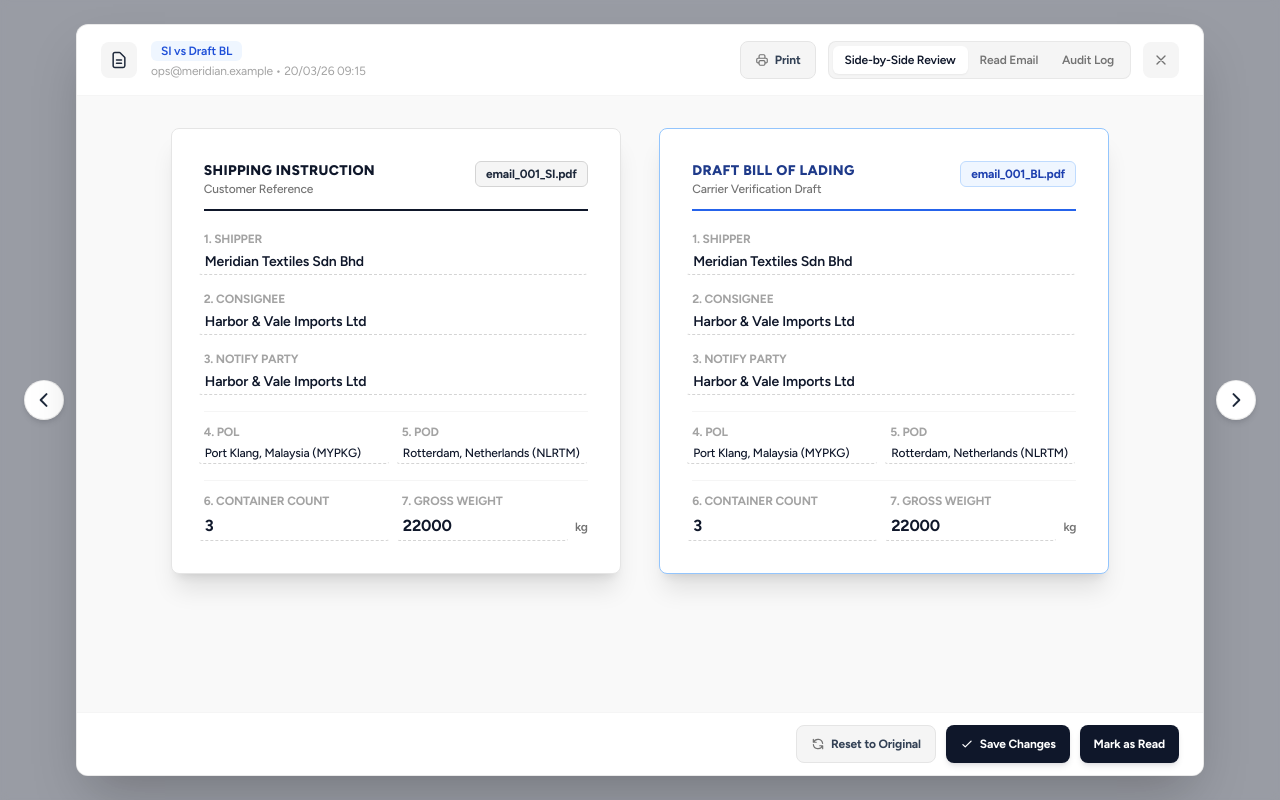
ReviewModal email pane › opens the side-by-side review from the email
What coordinates should you click on to do the following:
click the button "Read Email"
I would click on:
 (1009, 60)
Its box is x1=968 y1=46 x2=1050 y2=74.
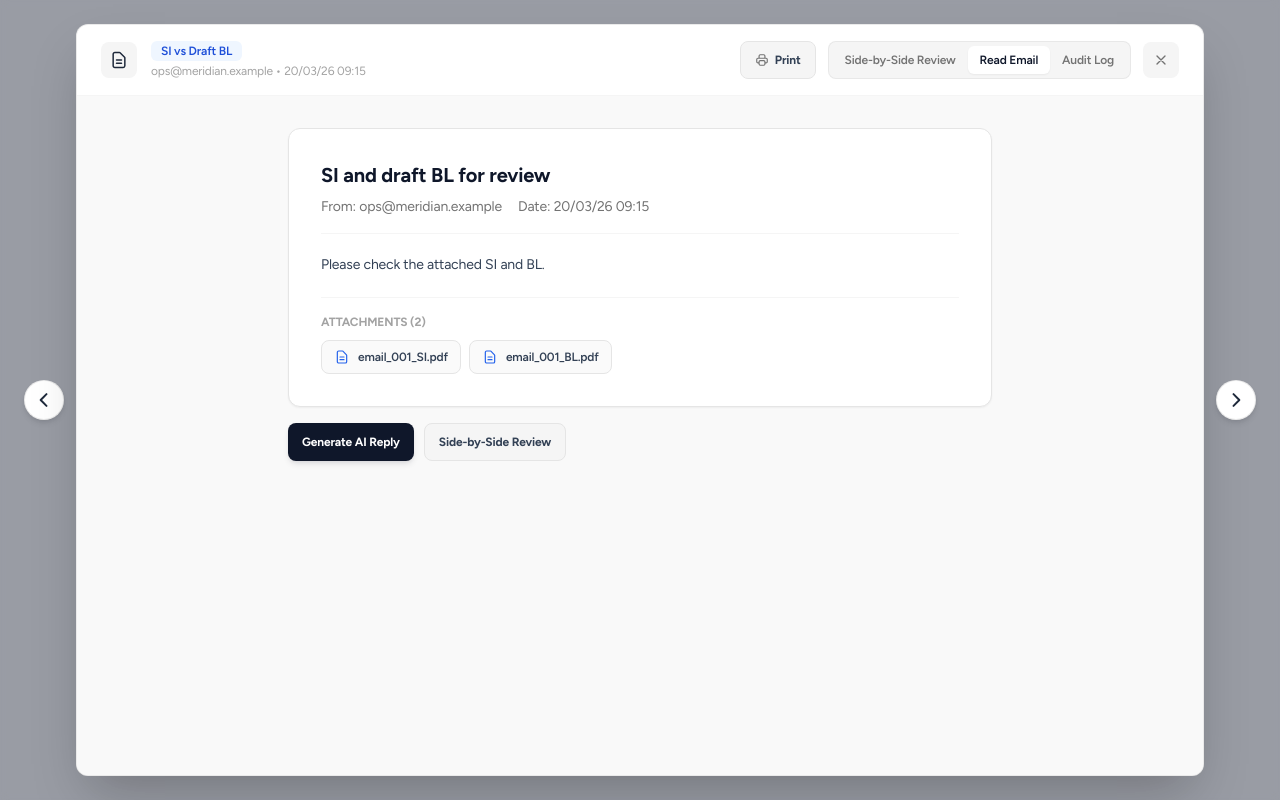
What coordinates should you click on to do the following:
click the button "Side-by-Side Review" below "email_001_SI.pdf"
I would click on:
 (495, 442)
Its box is x1=424 y1=423 x2=566 y2=461.
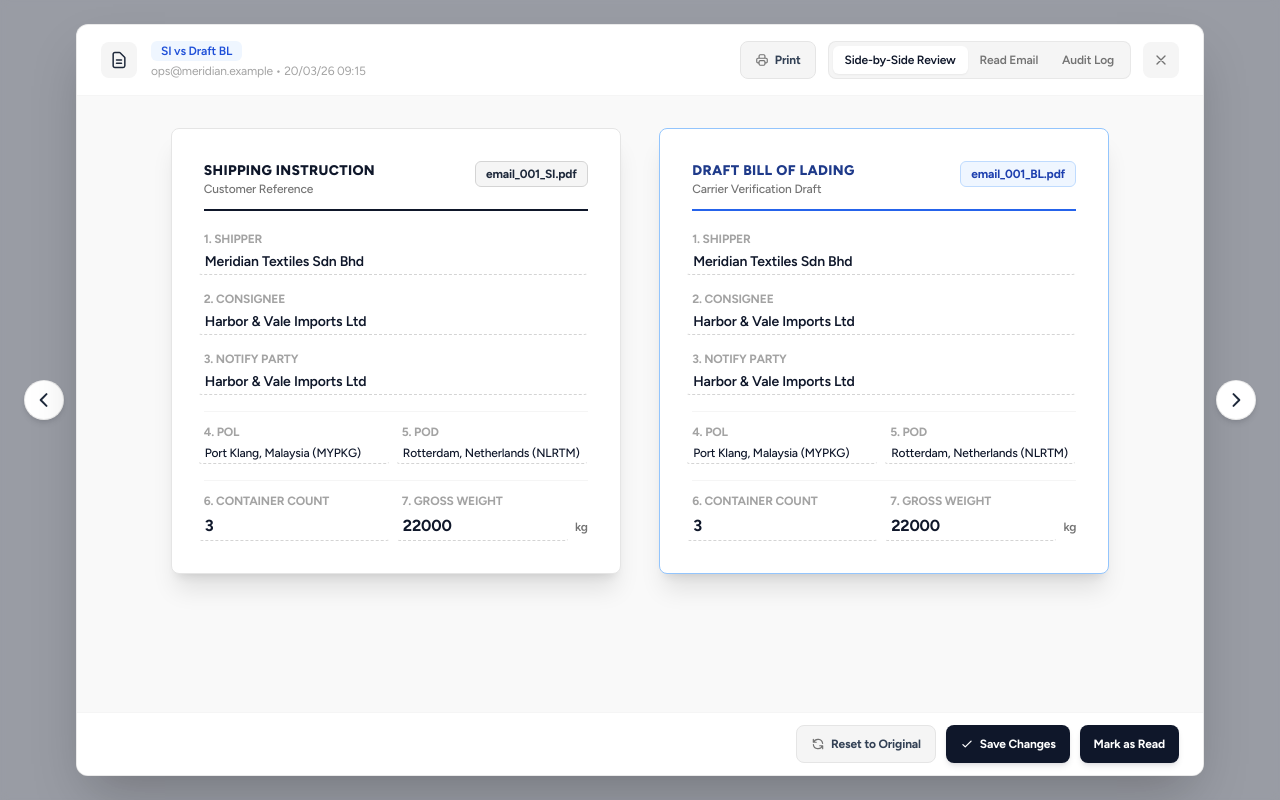
Check: the field labelled "1. Shipper" below "Customer Reference" is shown, box x1=198 y1=249 x2=588 y2=275
